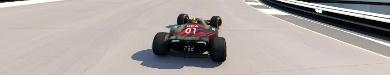Car: (151, 13, 226, 61)
Solid White and black: (242, 0, 389, 73)
